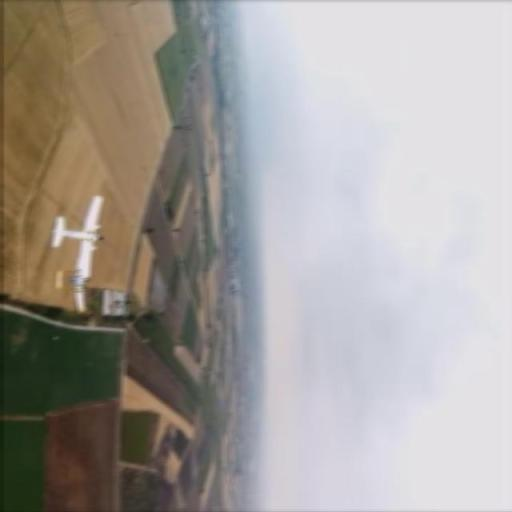uav: (48, 196, 107, 277)
